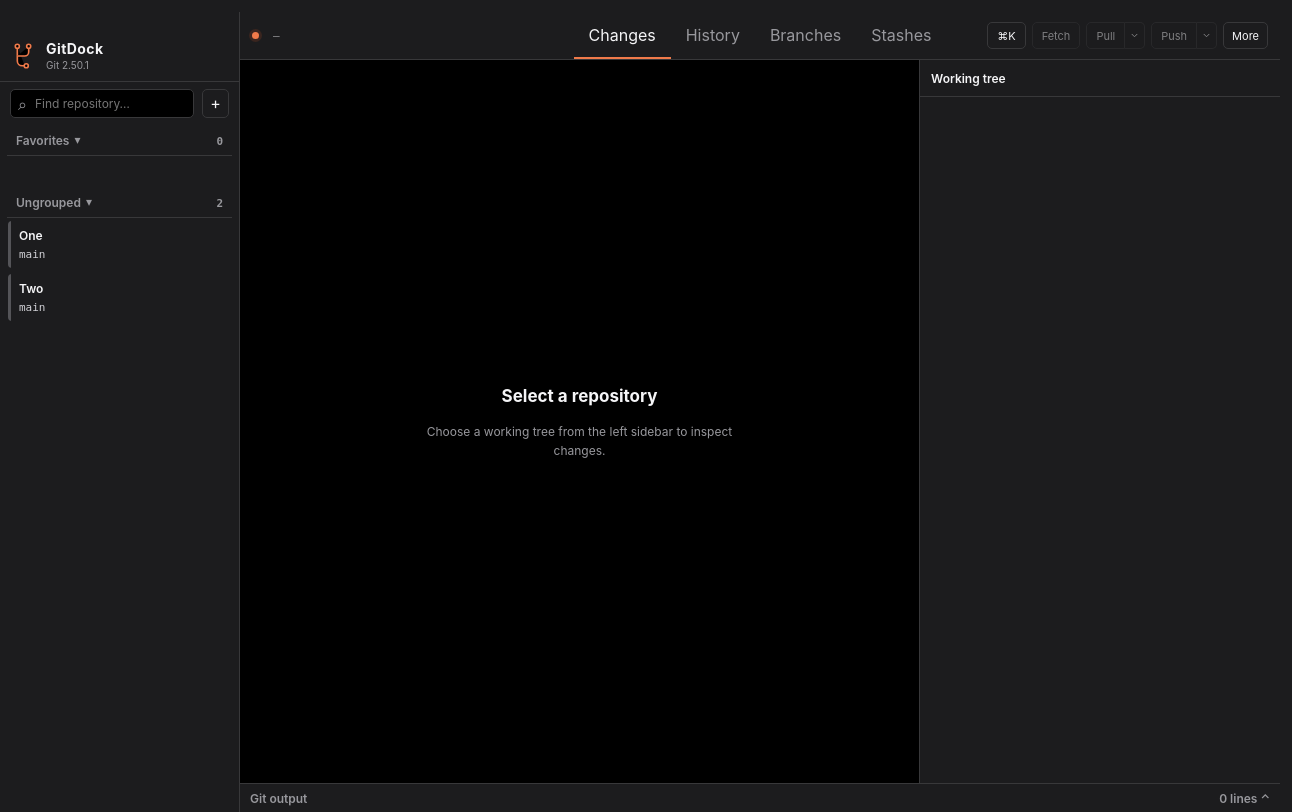
Scenario: refreshes only the changed repository and status for the selected repository
The image size is (1292, 812).
Click the button with class "repo-row" showing "One main".
click(120, 244)  # box x1=7 y1=220 x2=232 y2=269
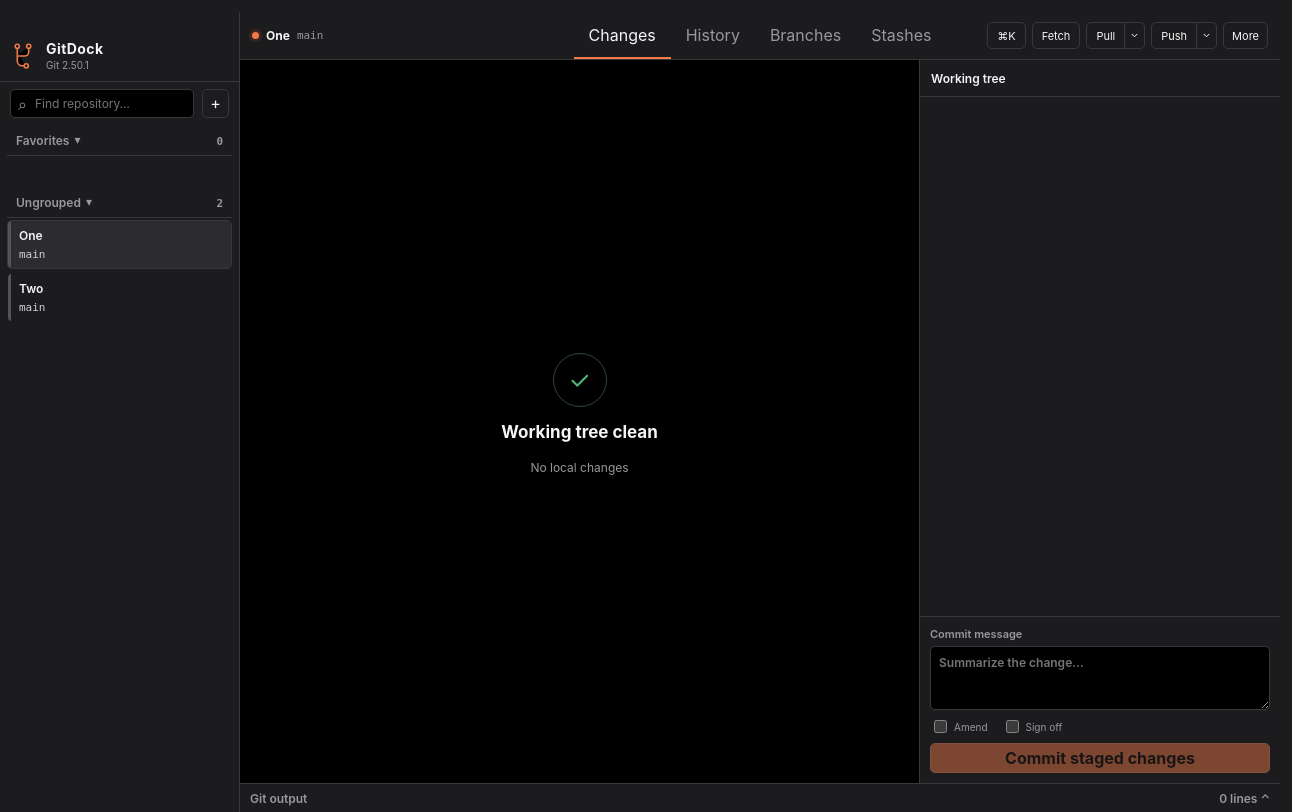
Type "Draft while refreshing" into the text box labelled "Commit message".
click(1100, 678); type("Draft while refreshing")  # box x1=930 y1=646 x2=1270 y2=710
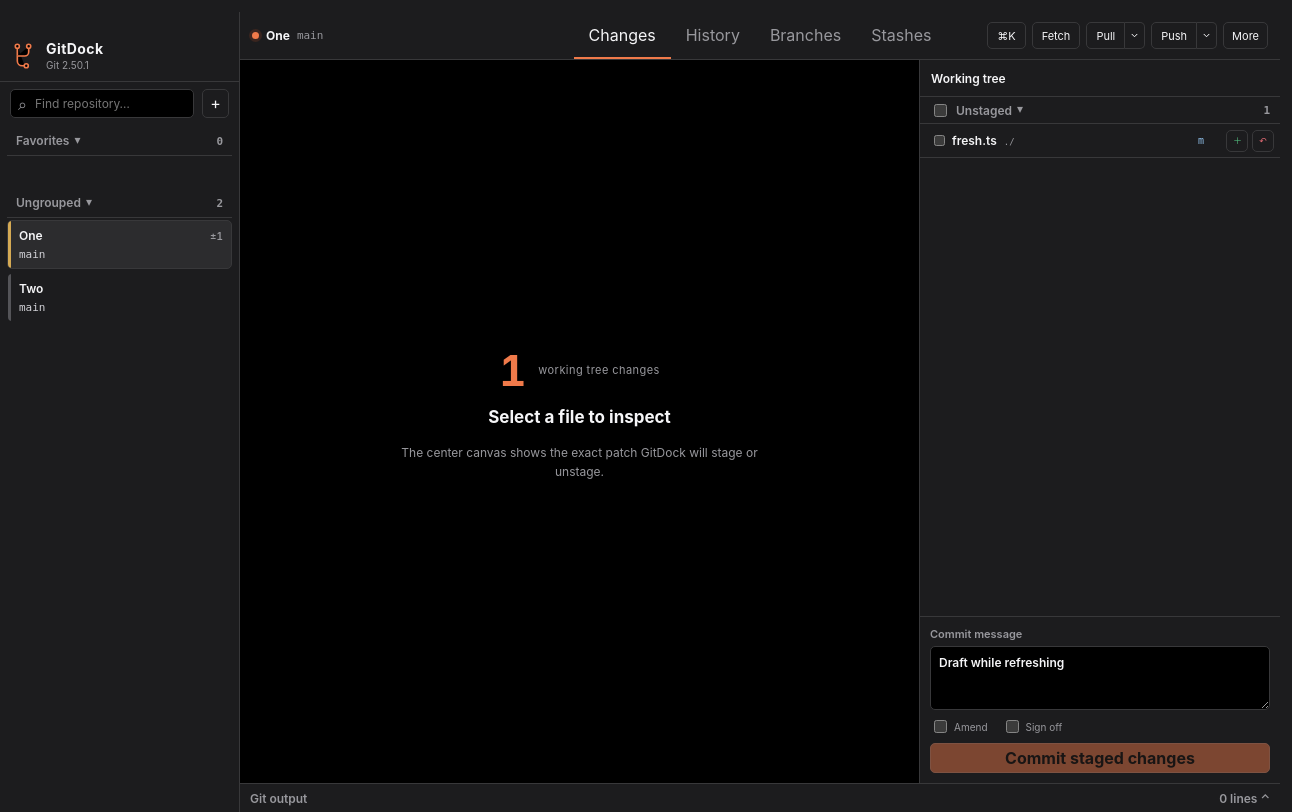
Expected: the text "fresh.ts" is shown, x1=952 y1=133 x2=997 y2=148
Expected: the button "One ±1 main" is shown, x1=7 y1=220 x2=232 y2=269
